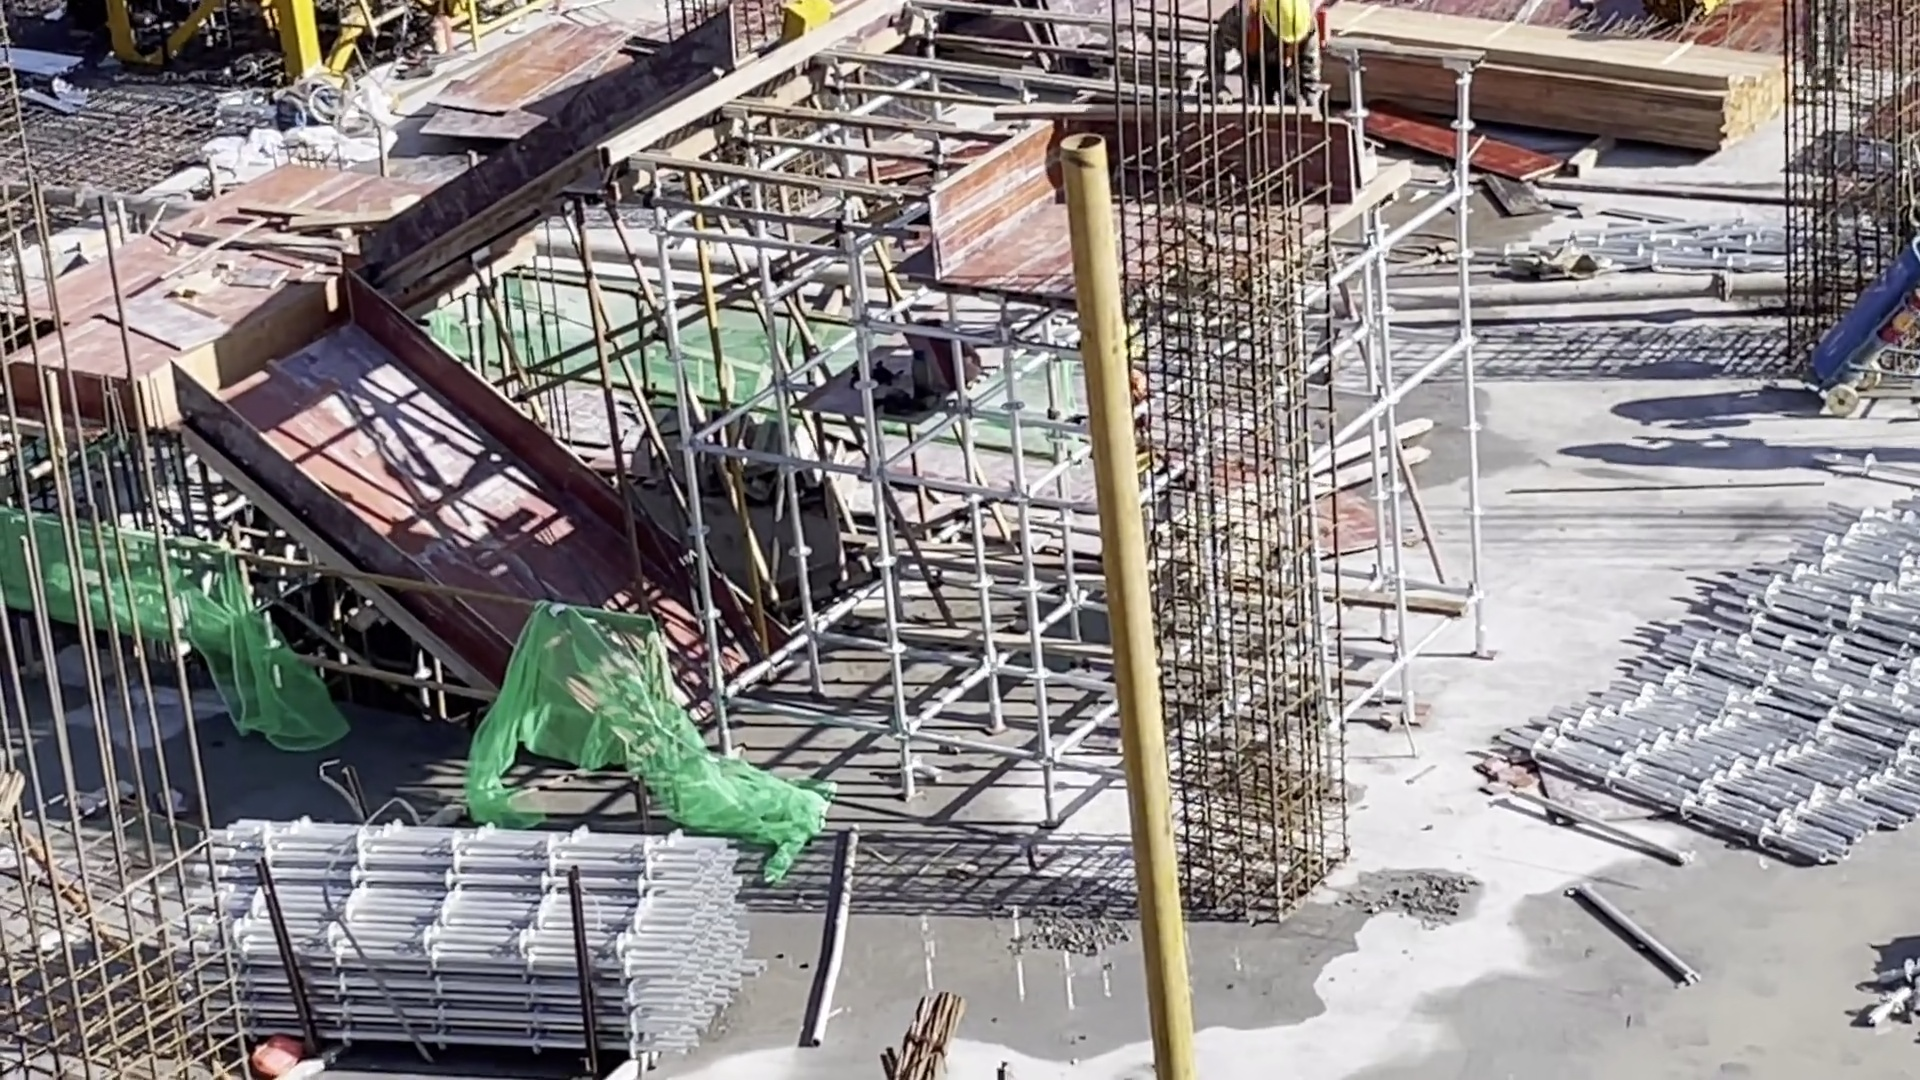helmet: (1262, 6, 1309, 47)
person: (1219, 5, 1328, 108), (1799, 2, 1859, 81)
scaffold: (1487, 498, 1920, 865), (165, 800, 773, 1053)
wood: (1320, 6, 1788, 153)
